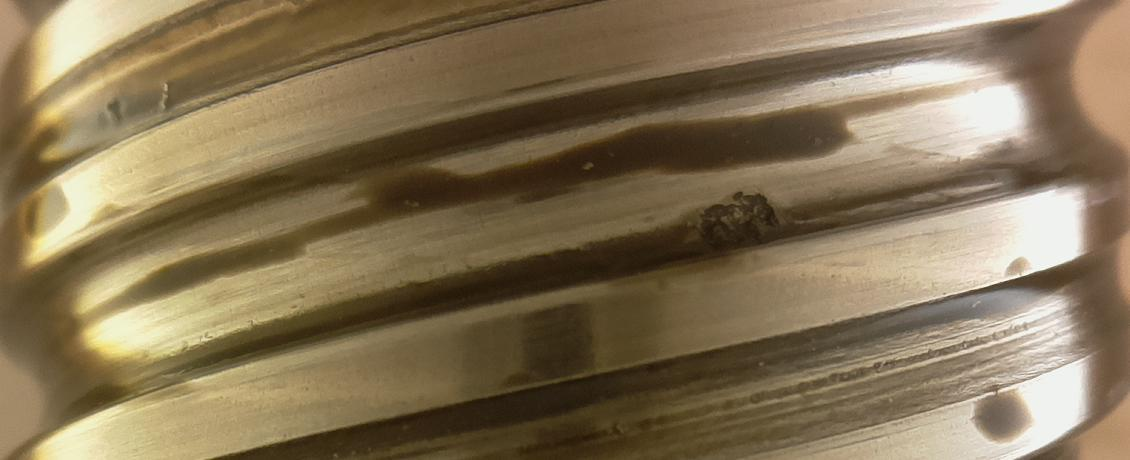pitting: (700, 192, 778, 249)
